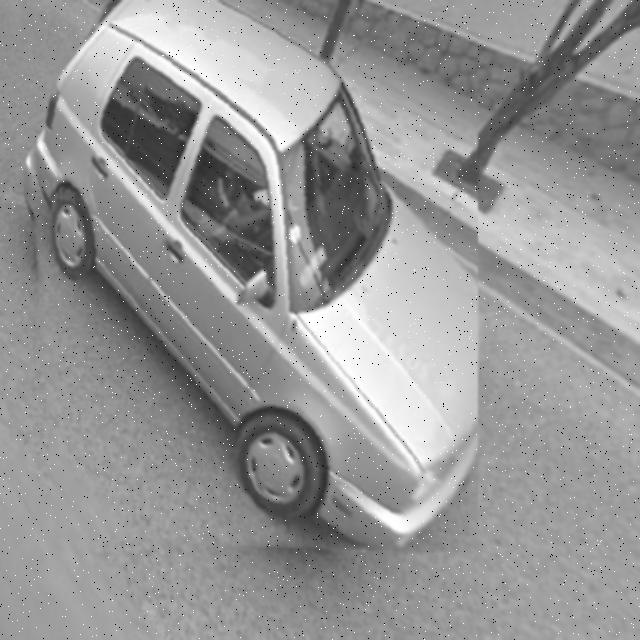car: (19, 1, 479, 557)
